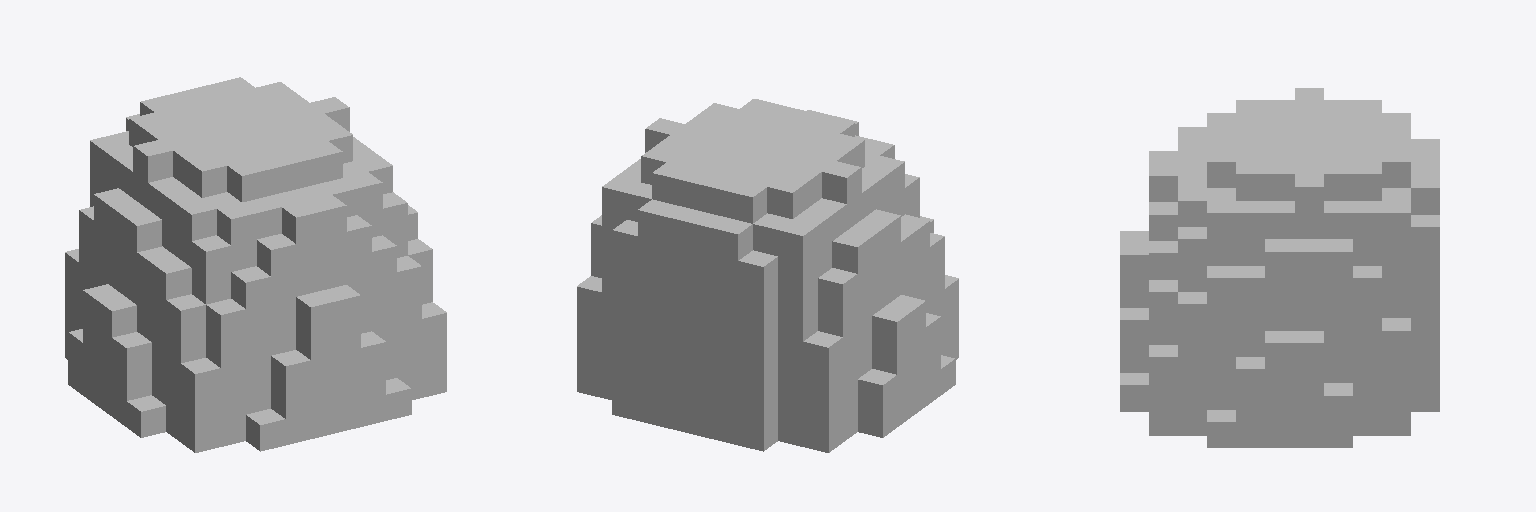
The model's file is ws1tri.obj.
The picture shows the model from 3 angles: view 1: azimuth 30°, elevation 25°; view 2: azimuth 150°, elevation 25°; view 3: azimuth 270°, elevation 25°; orthographic projection.
Parts seen in each view (by area): view 1: Cube.001_Cube.006; view 2: Cube.001_Cube.006; view 3: Cube.001_Cube.006.
Boxes of the visible parts, <box> form: Cube.001_Cube.006: <box>65,77,446,452</box>; Cube.001_Cube.006: <box>577,99,958,452</box>; Cube.001_Cube.006: <box>1120,88,1439,447</box>.
Size of the model in its own units: 0.6026 by 0.4519 by 0.5524.